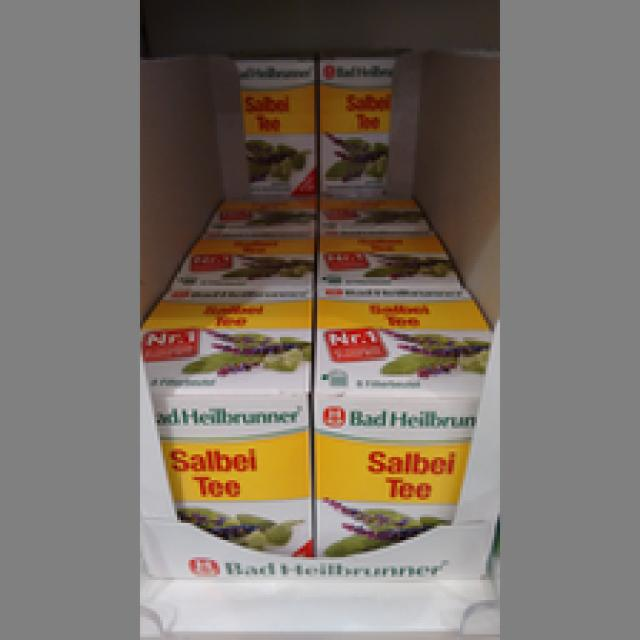groceries: (137, 297, 312, 569), (312, 297, 488, 566), (314, 54, 394, 194), (234, 52, 312, 192)
